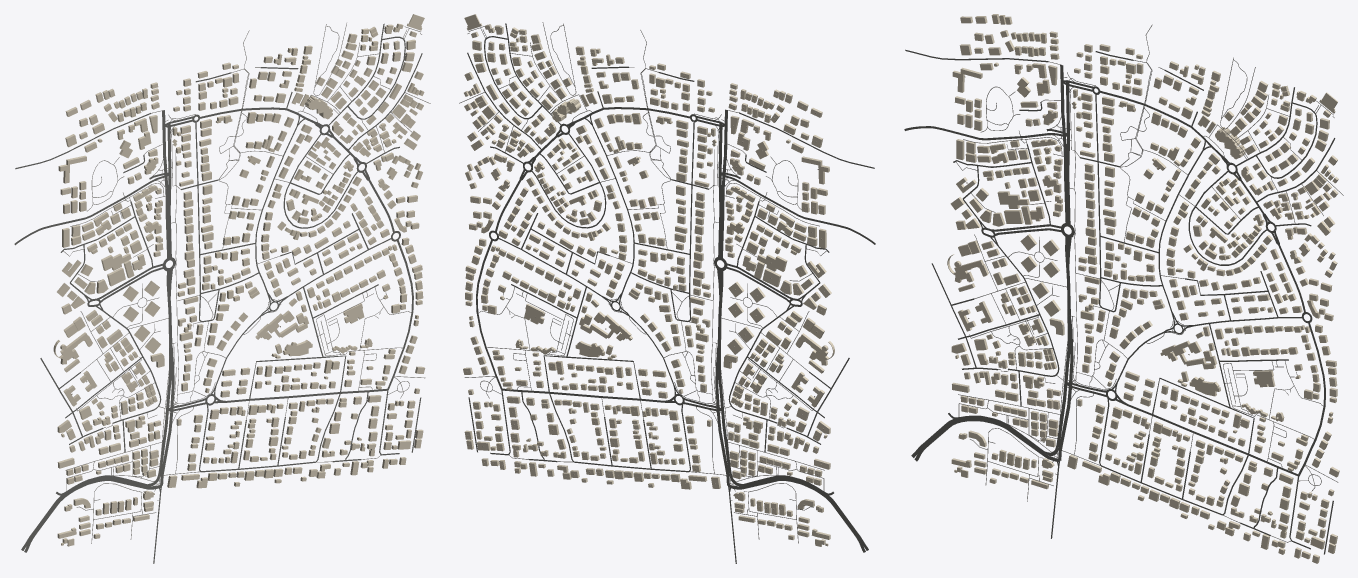
File: historic-palestine-07_27_3485_3216.glb
3 views of the same model, side by side, from view 1: azimuth 30°, elevation 25°; view 2: azimuth 150°, elevation 25°; view 3: azimuth 330°, elevation 25° (orthographic). The views are drawn at different scales.
Visible parts, largest first — view 1: Building_.519, Road ארלוזורוב.003; view 2: Building_.519, Road ארלוזורוב.003; view 3: Building_.519, Road ארלוזורוב, Road ארלוזורוב.003, Building_.814.
Boxes of the visible parts, left/top/right/bottom form: Building_.519: left=255, top=310, right=308, bottom=339; Road ארלוזורוב.003: left=24, top=477, right=161, bottom=552; Building_.519: left=579, top=311, right=632, bottom=340; Road ארלוזורוב.003: left=728, top=478, right=865, bottom=552; Building_.519: left=1160, top=340, right=1217, bottom=369; Road ארלוזורוב: left=911, top=415, right=1044, bottom=457; Road ארלוזורוב.003: left=914, top=418, right=1059, bottom=461; Building_.814: left=947, top=254, right=988, bottom=282.
Bounding box in the file's own units: 1101 × 1290 × 22.9.
